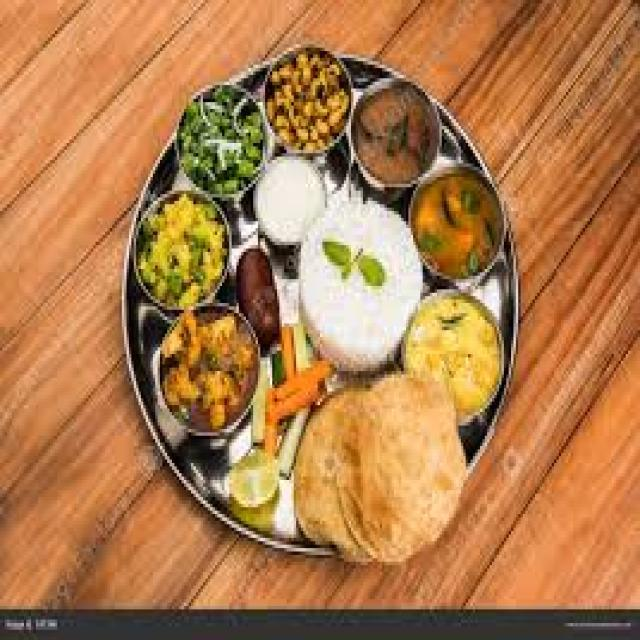curd: (251, 153, 330, 246)
dal: (418, 284, 509, 415)
papad: (289, 373, 462, 560)
raita: (251, 149, 327, 245)
rice: (292, 191, 422, 369)
roti: (291, 377, 458, 553)
sambar-rasam: (408, 160, 504, 277), (352, 73, 440, 183), (223, 238, 292, 351)
sweet: (230, 241, 294, 345)
veg-fry: (145, 294, 261, 449), (131, 179, 229, 306)
